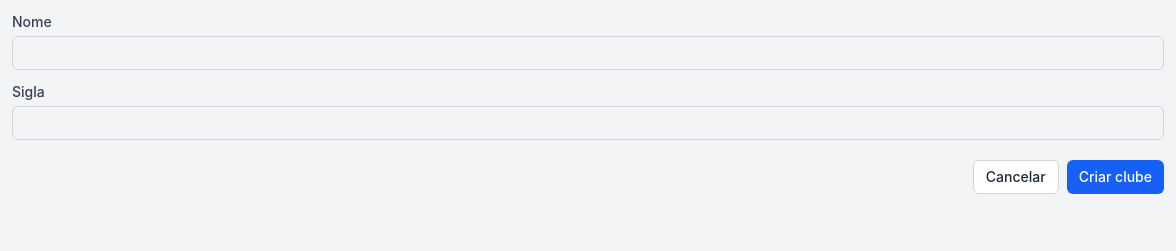
Test: ClubForm › valida o nome e a sigla antes de enviar
Type "FC" into the field labelled "Nome" at (588, 53), box [12,36,1164,70]
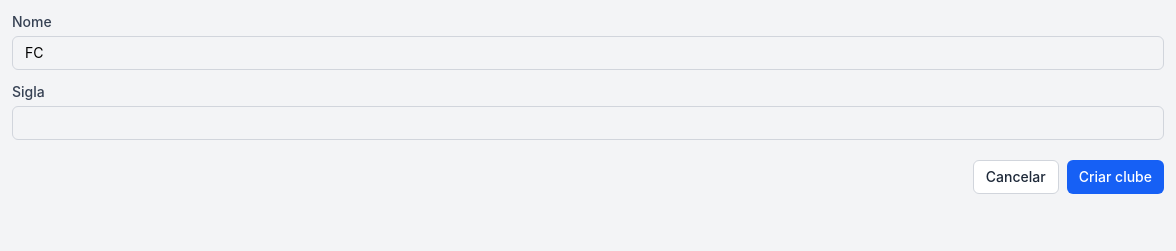
Type "ag" into the field labelled "Sigla" at (588, 123), box [12,106,1164,140]
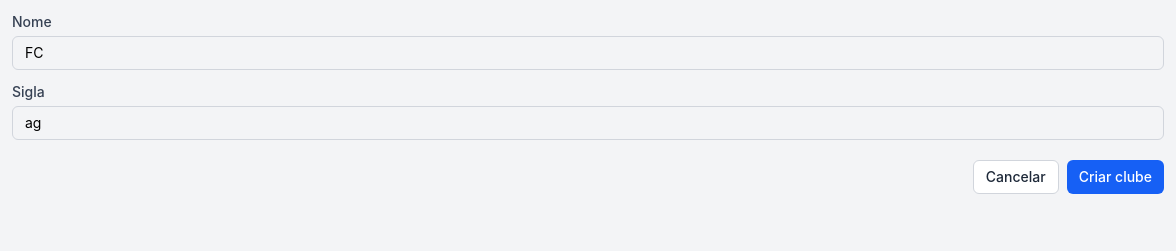
Click the button "Criar clube" at (1115, 177), box [1067,160,1164,194]
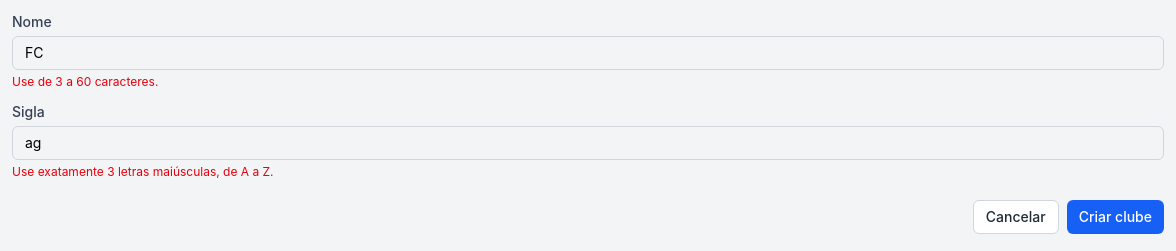
Now the text "Use de 3 a 60 caracteres." is shown, box [12,74,158,89]
Now the text "Use exatamente 3 letras maiúsculas, de A a Z." is shown, box [12,164,274,179]
